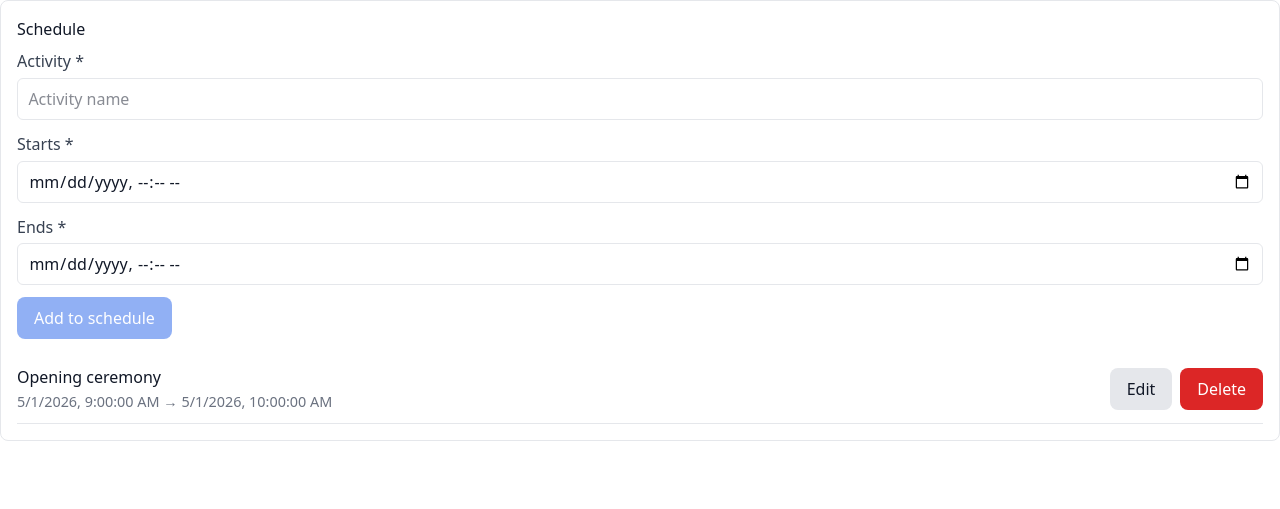
it: ScheduleSection › edits an existing entry through the shared form
The image size is (1280, 509).
Step 1. Click the button with test id "schedule-edit-s1" → (1141, 389), box left=1110, top=368, right=1172, bottom=410
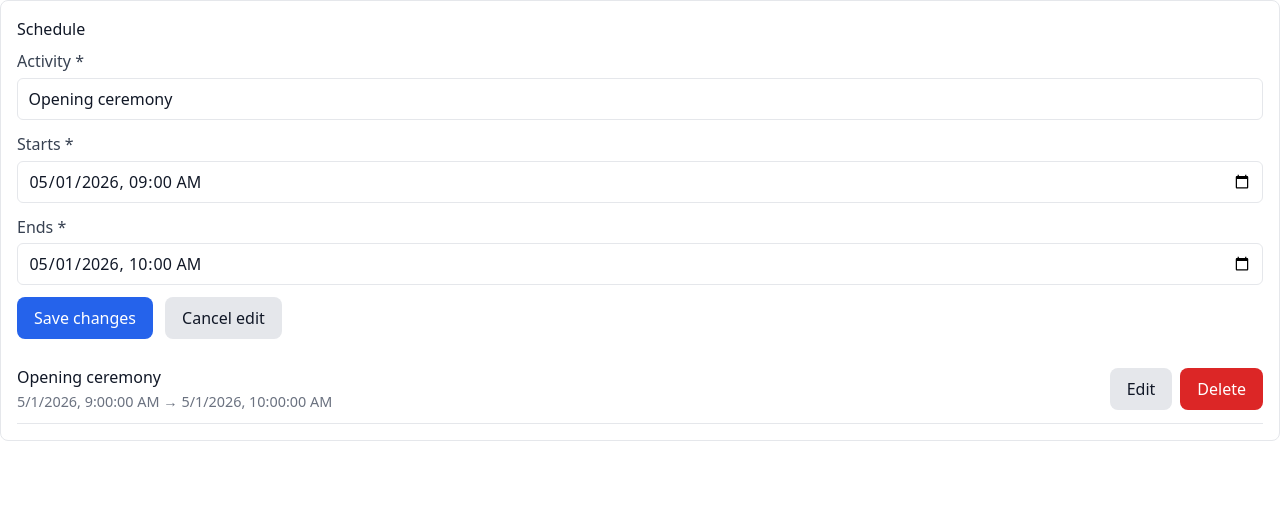
Step 2. Replace the text in the field with test id "schedule-activity" with "Keynote" → (640, 99), box left=17, top=78, right=1263, bottom=120
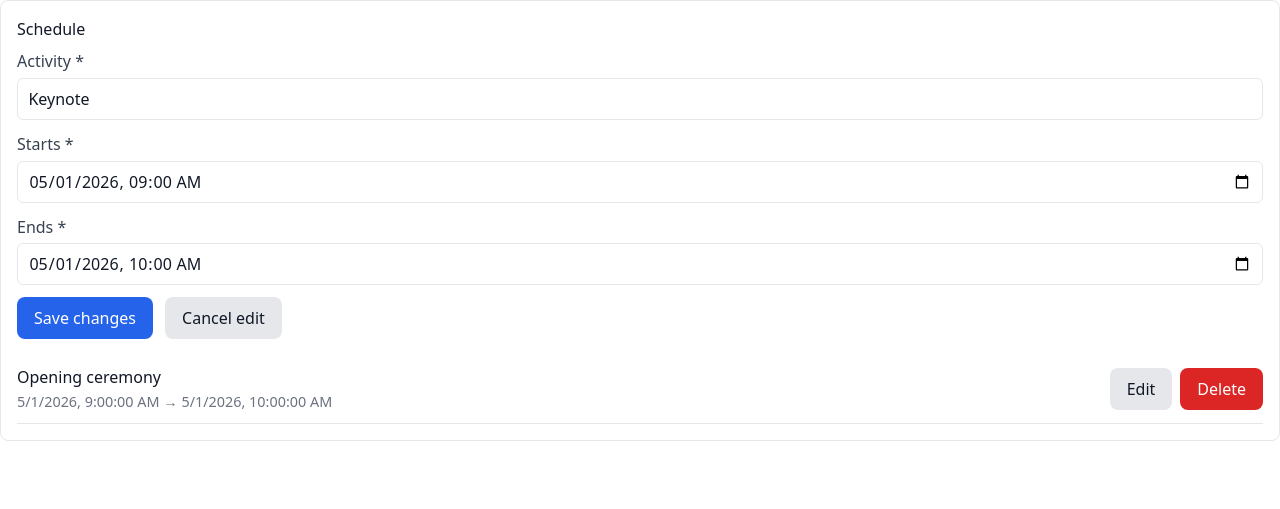
Step 3. Submit the form with test id "schedule-form", box left=17, top=49, right=1263, bottom=339
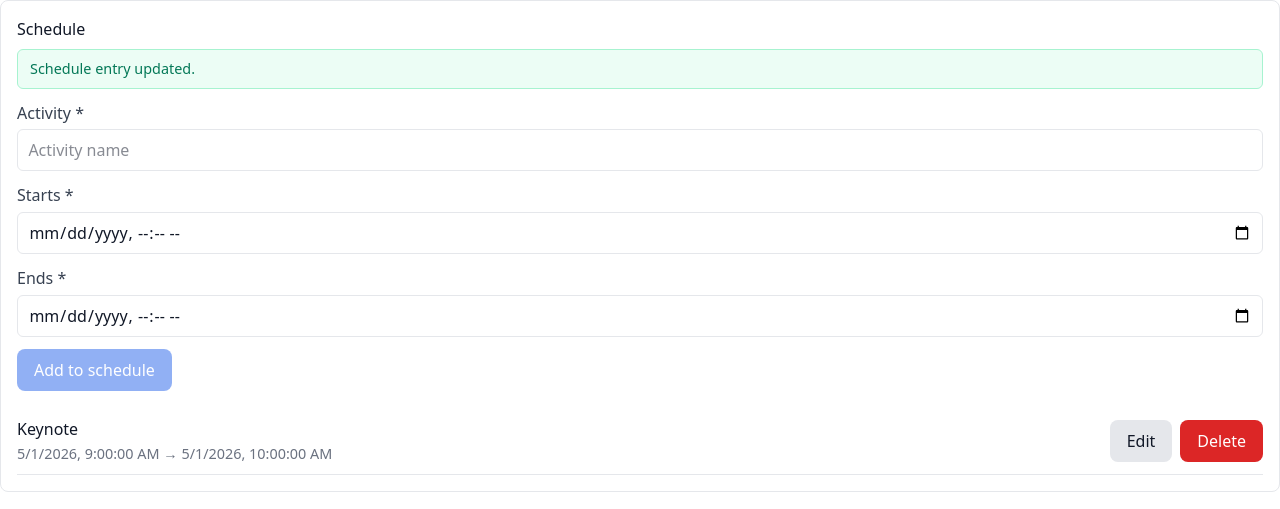
Check: the message with test id "schedule-notice" shows "updated", box left=30, top=59, right=195, bottom=78
